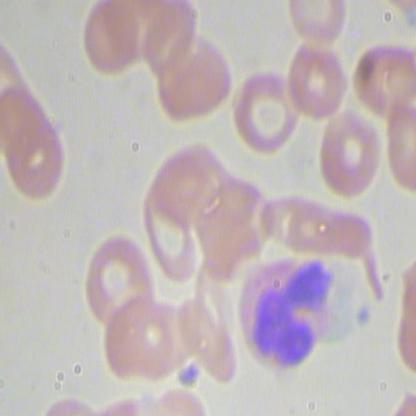Platelets: (176, 358, 200, 387), (353, 302, 373, 328)
RBC: (79, 234, 158, 327), (1, 111, 80, 204), (156, 34, 235, 127), (134, 193, 205, 285), (230, 68, 300, 155), (284, 37, 354, 124), (149, 143, 227, 221), (315, 111, 384, 199), (203, 170, 276, 251), (77, 1, 144, 81), (118, 293, 179, 380), (286, 197, 373, 256), (354, 36, 415, 118)
WBC: (237, 250, 339, 374)
